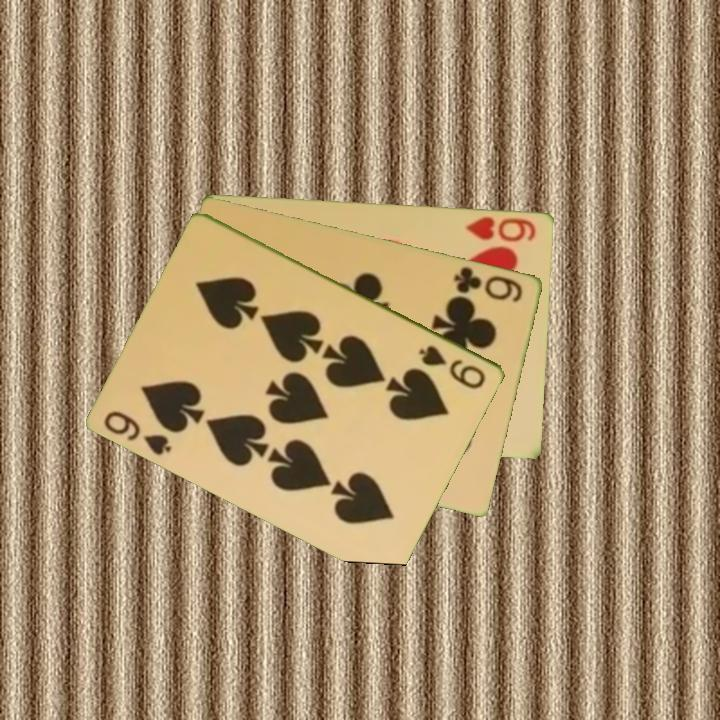6c: (450, 262, 526, 305)
6h: (462, 212, 539, 245)
9s: (100, 407, 175, 459), (415, 341, 489, 392)
